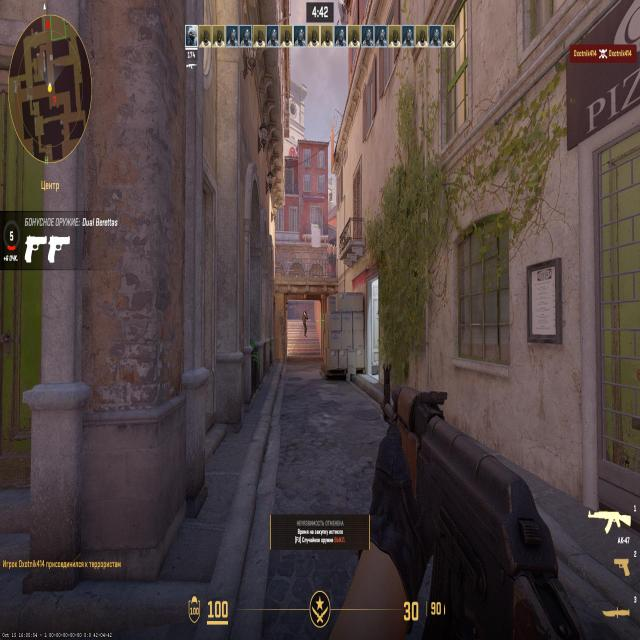CT: (303, 312, 308, 334)
CT_heat: (304, 312, 308, 318)
